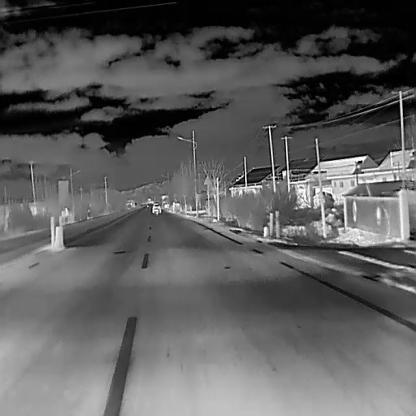car: (152, 202, 161, 214)
